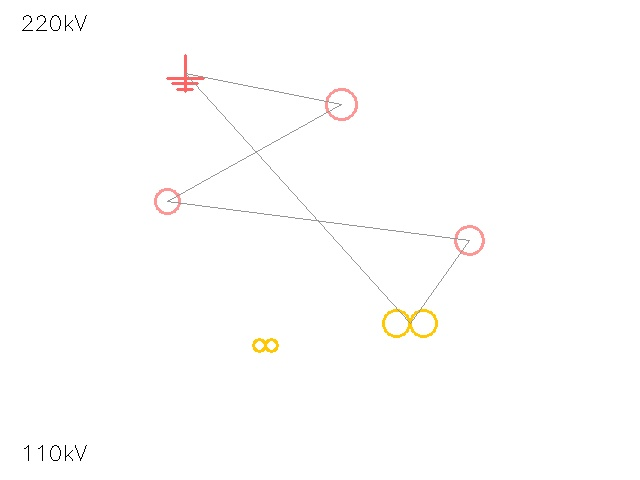feeder_terminal: (441, 212, 497, 268), (143, 177, 191, 225)
ground: (167, 55, 203, 91)
reactor: (310, 73, 372, 135)
transformer_2w: (377, 290, 443, 356), (250, 330, 280, 360)
